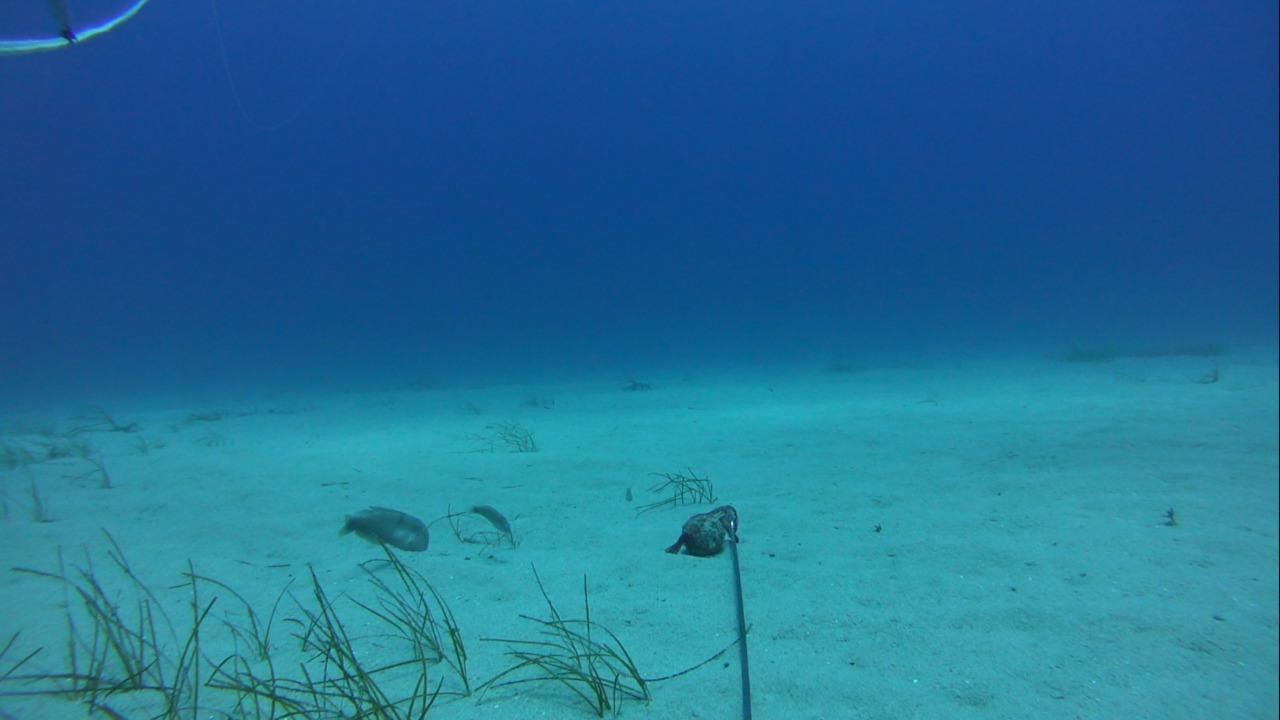raor: (328, 499, 437, 558), (463, 493, 523, 549)
